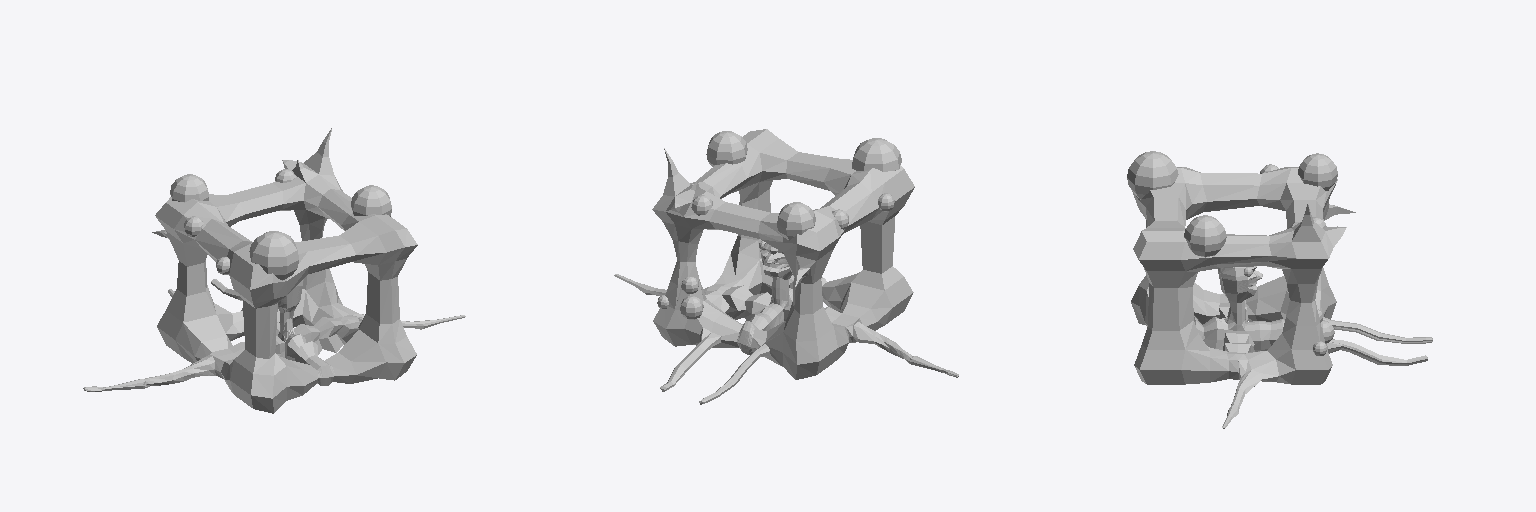
File: chief.obj
The picture shows the model from 3 angles: view 1: azimuth 30°, elevation 25°; view 2: azimuth 150°, elevation 25°; view 3: azimuth 270°, elevation 25°; orthographic projection.
Parts seen in each view (by area): view 1: chief; view 2: chief; view 3: chief.
Part boxes in pixels (left/top/right/bottom): chief: left=83, top=128, right=465, bottom=413; chief: left=614, top=129, right=958, bottom=404; chief: left=1127, top=151, right=1432, bottom=428.
Size of the model in its own units: 5.9 by 3.03 by 4.32.